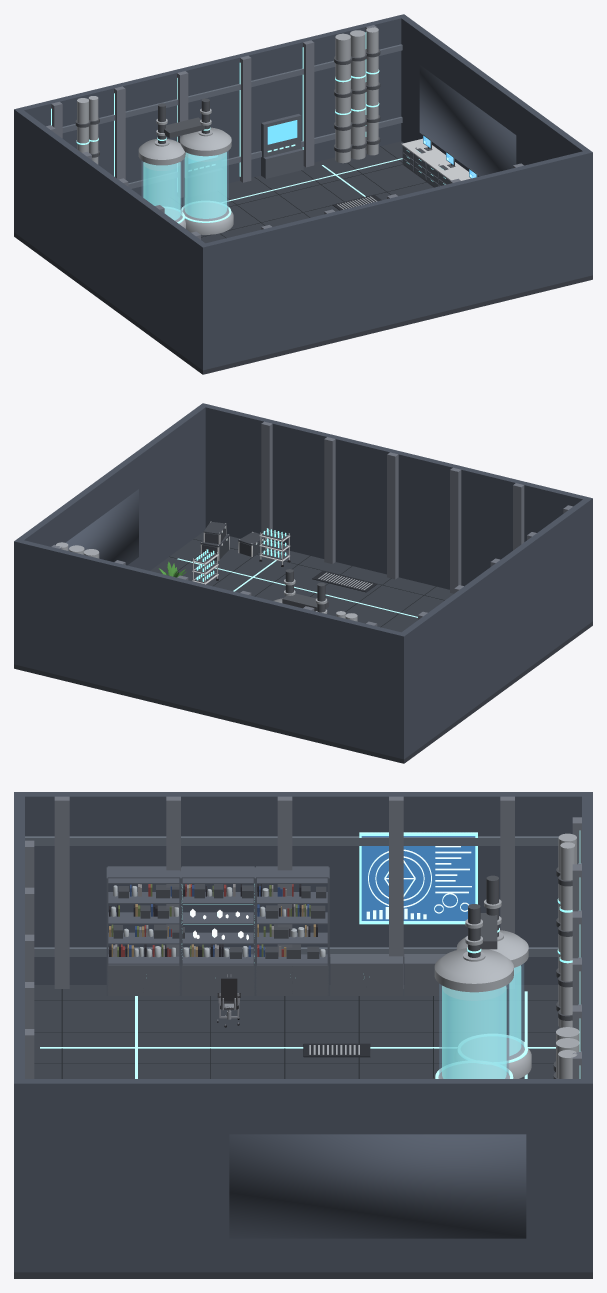
The model's file is Synthesis Room.glb.
3 renders of one model, top to bottom at view 1: azimuth 30°, elevation 25°; view 2: azimuth 150°, elevation 25°; view 3: azimuth 270°, elevation 25°, orthographic. The views are drawn at different scales.
Visible parts, largest first — view 1: Room_WallFront, Room_WallLeft, Room_WallBack, Room_WallRight, Room_Floor, Room_PipeBack, Room_WallColumns, Room_TankGlass, Room_TankLiquid, Room_WallBands, Room_TankCap, Room_BackConsole (+9 smaller); view 2: Room_WallBack, Room_WallFront, Room_WallLeft, Room_WallRight, Room_Floor, Room_WallColumns, Room_CrateBody, Room_CartTrays, Room_GrateFrame, Room_CrateLid, Room_CartVials, Room_PipeBack; view 3: Room_WallRight, Room_WallLeft, Room_Floor, Room_WallColumns, Room_ShelfBoards, Room_TankGlass, Room_TankLiquid, Room_ShelfCabinet, Room_WallHoloPlate, Room_WallBands, Room_WallBack, Room_WallFront (+15 smaller).
Part boxes in pixels (<box>): Room_WallFront: <box>199,149,592,370</box>; Room_WallLeft: <box>17,110,204,367</box>; Room_WallBack: <box>14,14,407,234</box>; Room_WallRight: <box>401,17,588,176</box>; Room_Floor: <box>14,141,592,374</box>; Room_PipeBack: <box>77,27,378,164</box>; Room_WallColumns: <box>46,25,523,239</box>; Room_TankGlass: <box>141,151,228,221</box>; Room_TankLiquid: <box>143,152,226,220</box>; Room_WallBands: <box>62,44,402,188</box>; Room_TankCap: <box>138,127,231,165</box>; Room_BackConsole: <box>184,114,303,196</box>; Room_WallBack: <box>14,538,407,759</box>; Room_WallFront: <box>199,403,592,623</box>; Room_WallLeft: <box>402,499,589,756</box>; Room_WallRight: <box>18,406,205,570</box>; Room_Floor: <box>14,532,592,763</box>; Room_WallColumns: <box>51,421,572,626</box>; Room_CrateBody: <box>202,526,265,560</box>; Room_CartTrays: <box>194,531,288,582</box>; Room_GrateFrame: <box>312,570,377,592</box>; Room_CrateLid: <box>200,522,264,547</box>; Room_CartVials: <box>196,528,286,581</box>; Room_PipeBack: <box>56,542,357,621</box>; Room_WallRight: <box>25,1079,581,1272</box>; Room_WallLeft: <box>25,792,581,984</box>; Room_Floor: <box>14,985,592,1278</box>; Room_WallColumns: <box>25,796,581,1078</box>; Room_ShelfBoards: <box>107,878,328,964</box>; Room_TankGlass: <box>439,963,523,1078</box>; Room_TankLiquid: <box>442,965,521,1078</box>; Room_ShelfCabinet: <box>107,964,328,995</box>; Room_WallHoloPlate: <box>361,836,475,920</box>; Room_WallBands: <box>25,836,581,1052</box>; Room_WallBack: <box>582,792,592,1272</box>; Room_WallFront: <box>14,792,24,1272</box>.
Size of the model in its own units: 18.6 by 5.8 by 15.6.
